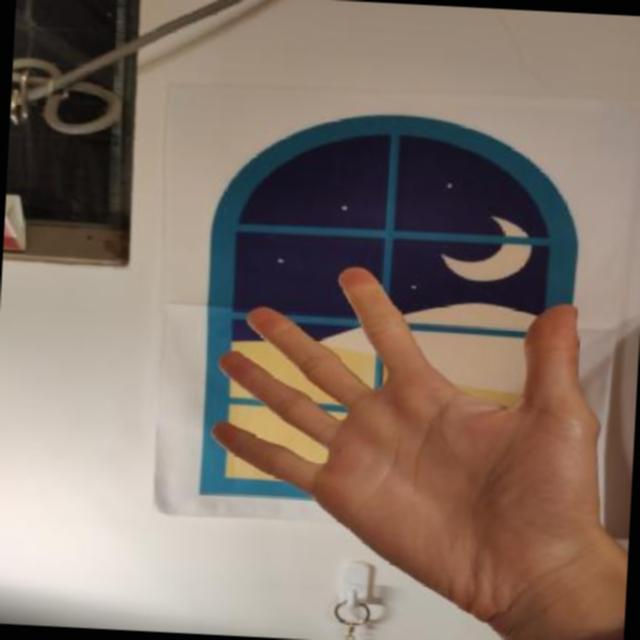hand: (184, 248, 638, 627)
